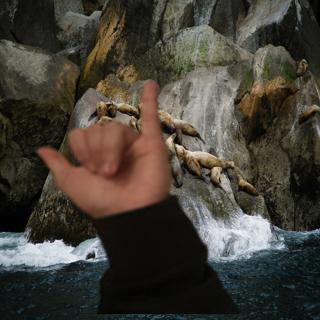HAVE: (30, 83, 183, 227)
